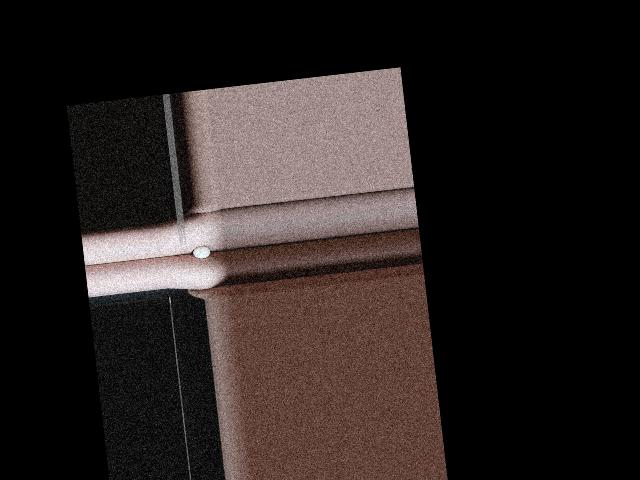egg: (192, 245, 210, 259)
